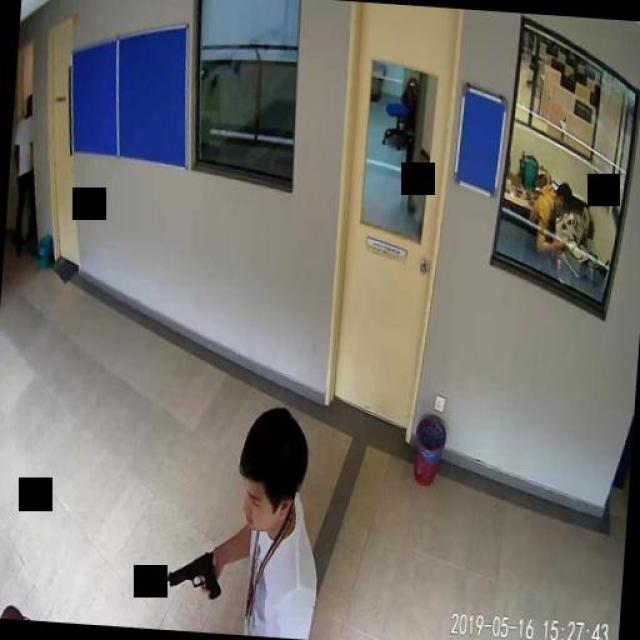gun: (164, 546, 222, 600)
